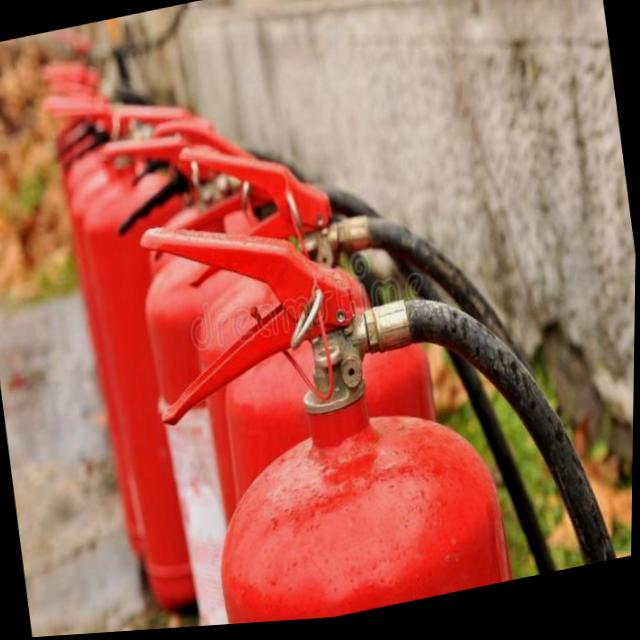FireExtinguisher: (106, 49, 578, 634), (126, 143, 629, 633), (162, 78, 578, 631)
